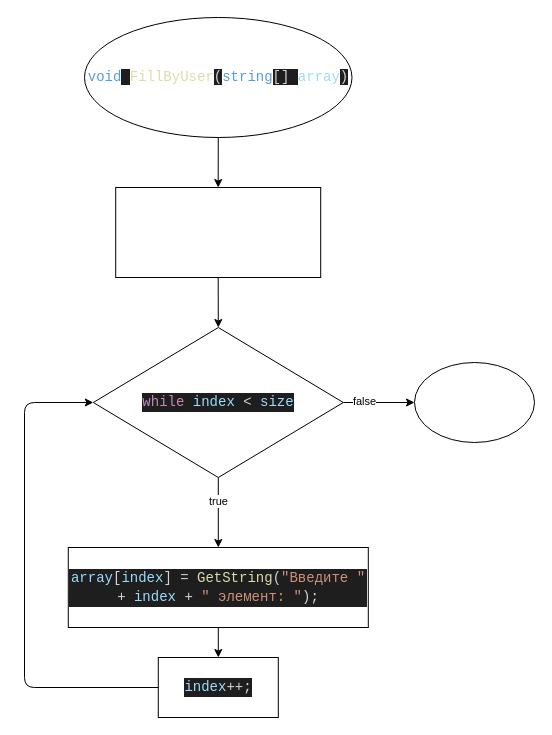
Image size: 552x735. Some labels were removed from this diagram. The shapes that lost their labels are listed below. From the top down, each one's centre as x and y in pixels, then its label:
(218,232): int size = array . Length ; int index = 0 ;
(474,402): end
